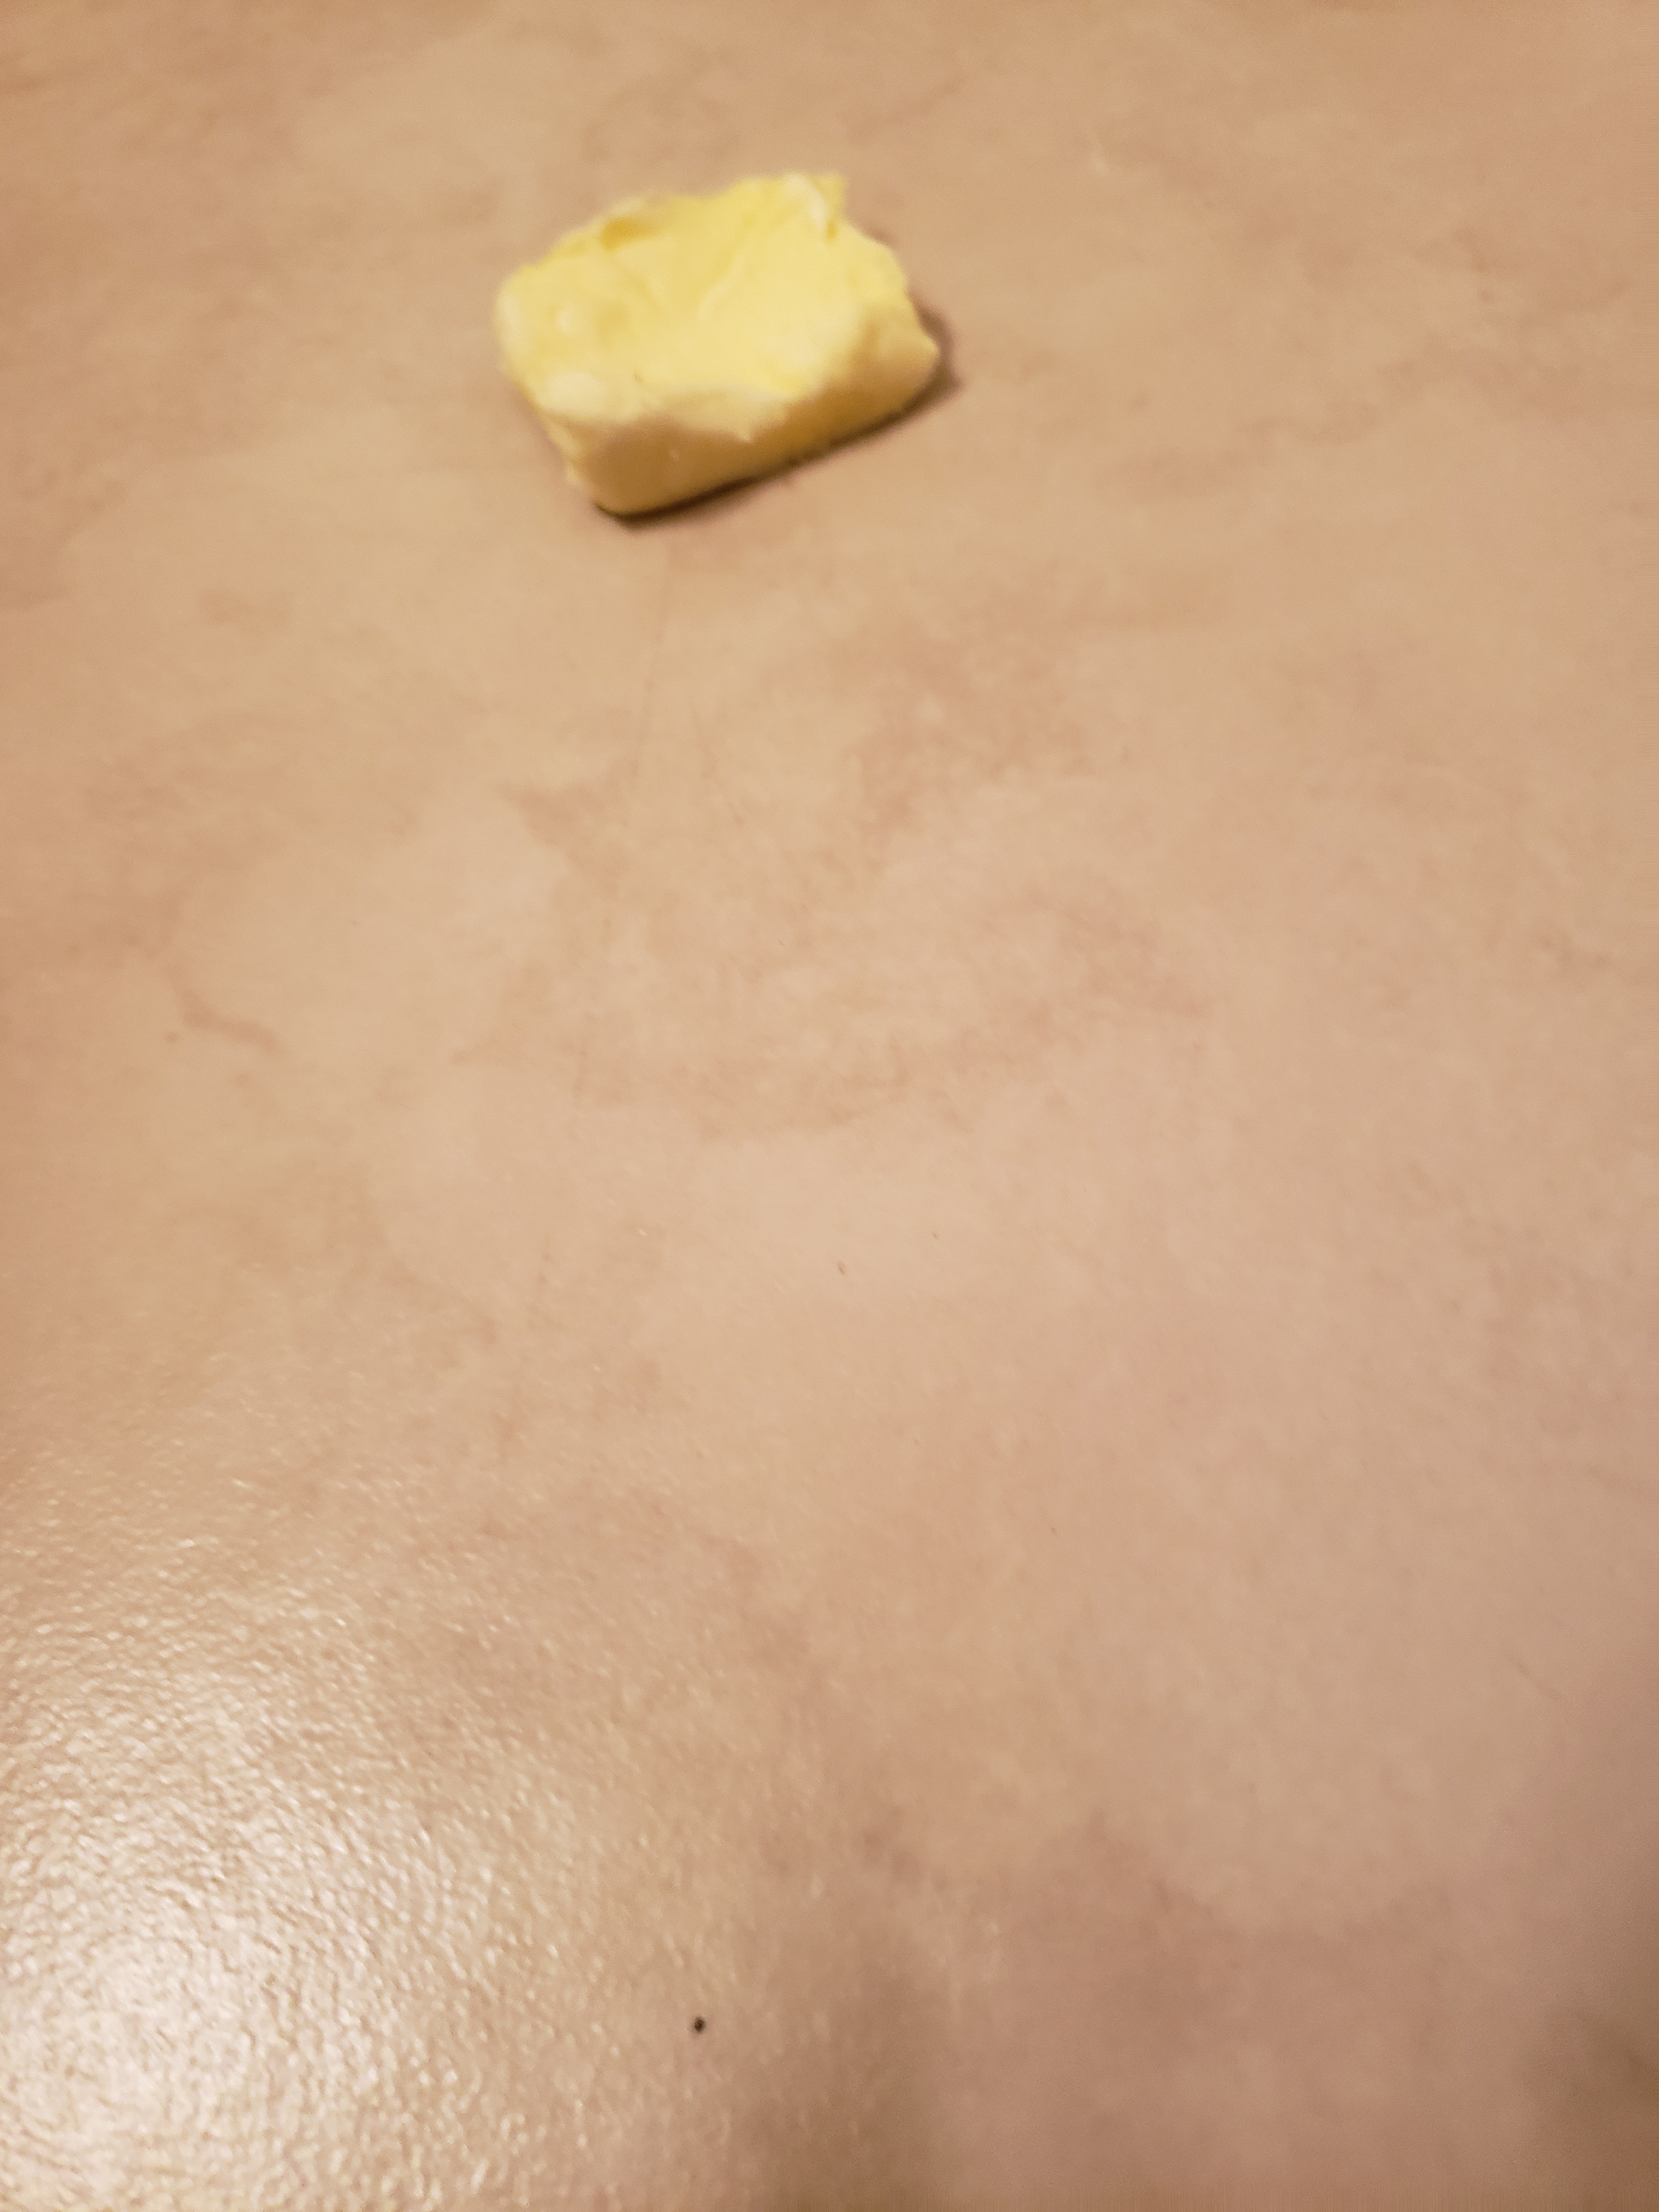Butter: (497, 171, 943, 519)
